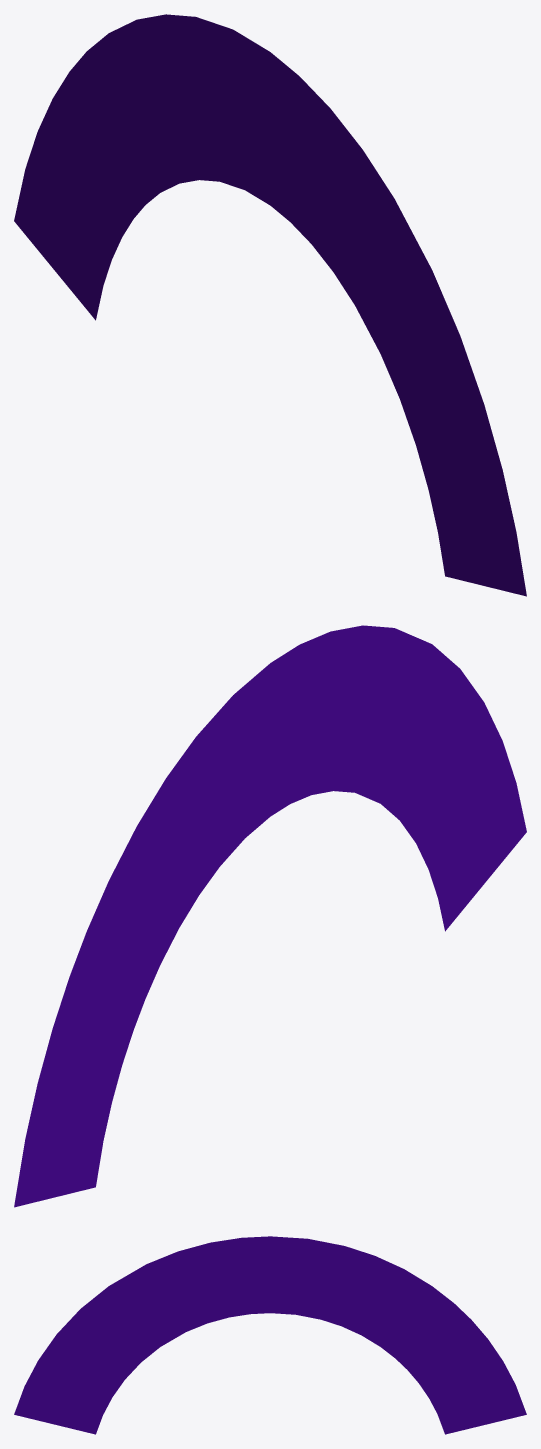
Rendered from Ironworks_03.fbx.
3 renders of one model, top to bottom at view 1: azimuth 30°, elevation 25°; view 2: azimuth 150°, elevation 25°; view 3: azimuth 270°, elevation 25°, orthographic. The views are drawn at different scales.
Visible parts, largest first — view 1: Ironworks_03; view 2: Ironworks_03; view 3: Ironworks_03.
Boxes of the visible parts, <box> form: Ironworks_03: <box>14,14,526,596</box>; Ironworks_03: <box>14,625,526,1207</box>; Ironworks_03: <box>14,1236,526,1434</box>.
Size of the model in its own units: 0.000244 by 205 by 482.
